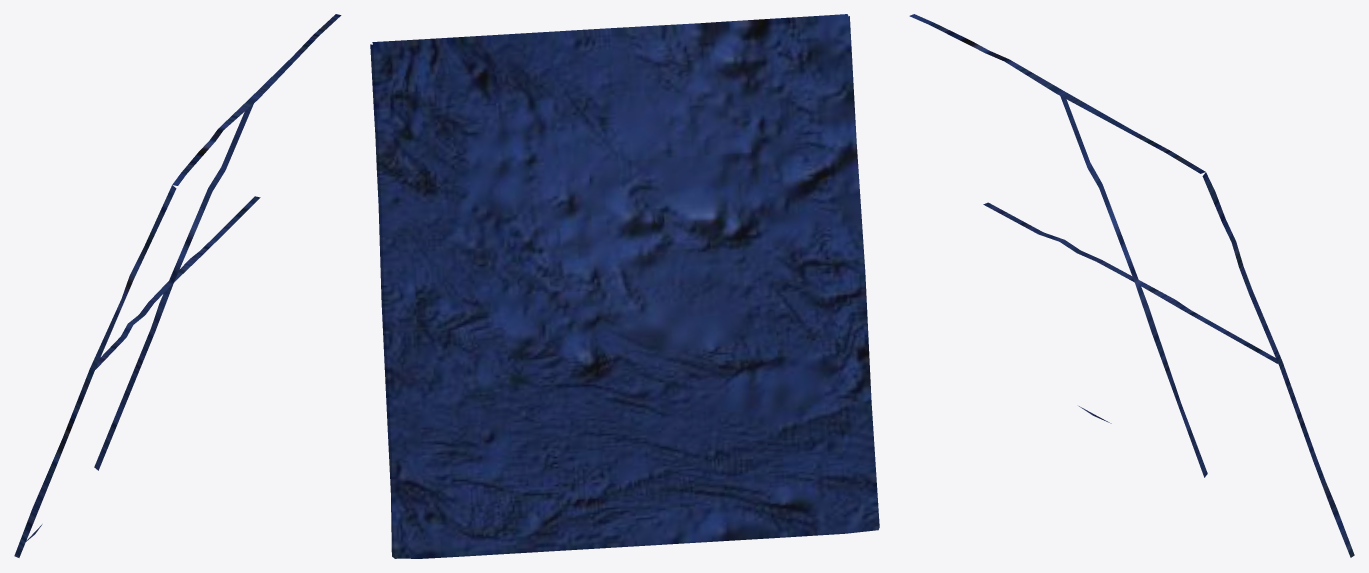
The picture shows the model from 3 angles, left to right: view 1: azimuth 30°, elevation 25°; view 2: azimuth 150°, elevation 25°; view 3: azimuth 270°, elevation 25°; orthographic projection. The views are drawn at different scales.
Size of the model in its own units: 303890 by 295716 by 273925.
1 material, 1 textured.
